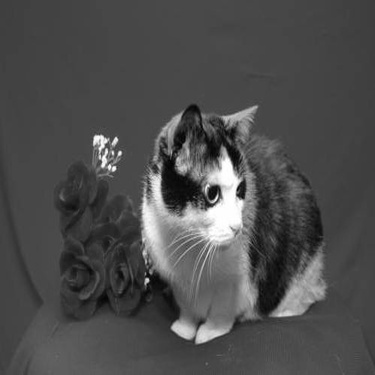cat: (35, 85, 350, 345)
